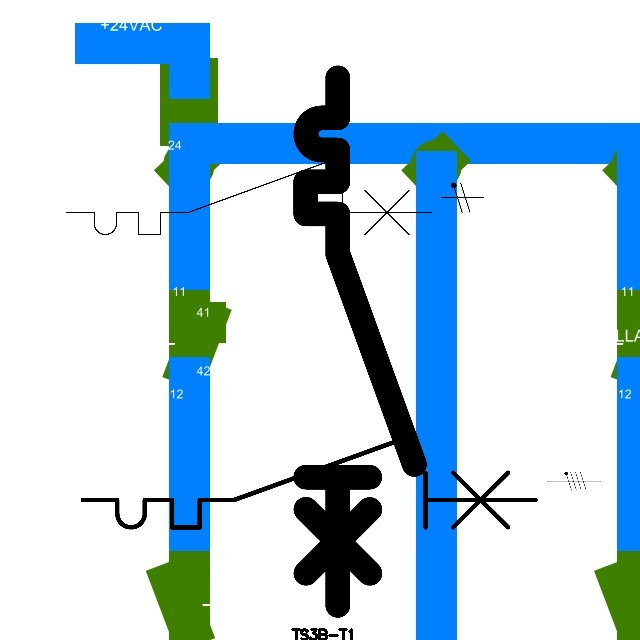interruptor_termomagnetico: (292, 64, 428, 619), (71, 423, 547, 539), (57, 150, 440, 244)
